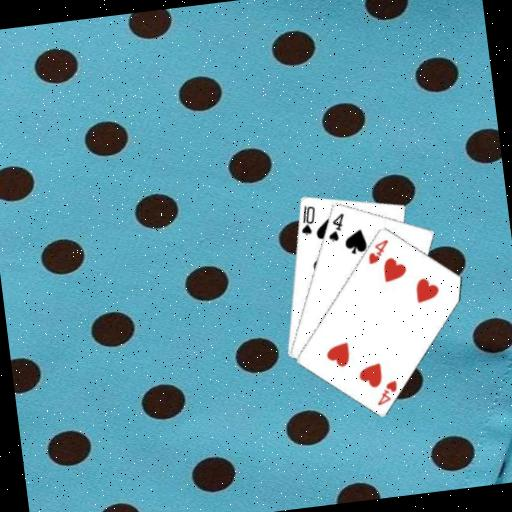10S: (295, 201, 319, 237)
4H: (371, 376, 401, 408), (363, 235, 393, 266)
4S: (322, 210, 348, 244)
